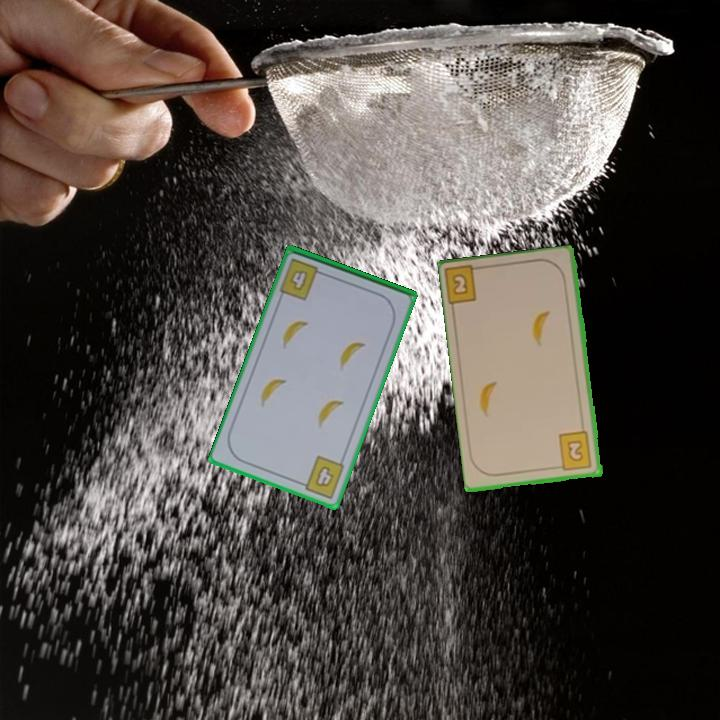2b: (443, 263, 487, 309), (553, 428, 595, 473)
4b: (295, 452, 347, 502), (276, 255, 329, 303)
